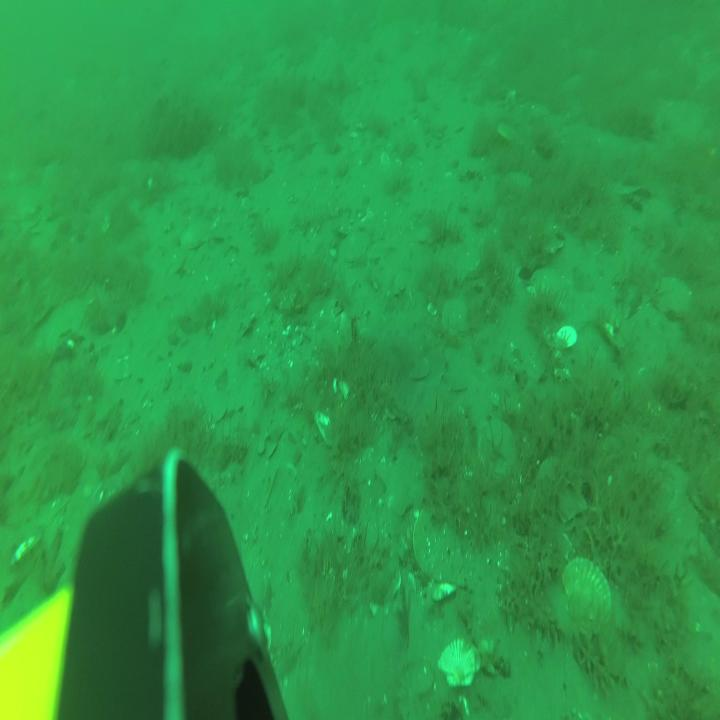scallop: (411, 497, 466, 585), (564, 552, 614, 632), (536, 450, 590, 524), (435, 636, 482, 690), (654, 268, 694, 317), (526, 263, 569, 307), (527, 214, 567, 258), (441, 292, 475, 340), (178, 215, 217, 255), (413, 209, 450, 246), (339, 226, 371, 266)
